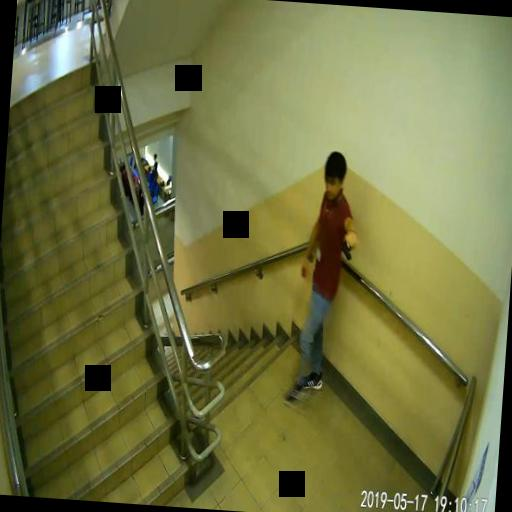Handgun: (339, 234, 356, 259)
